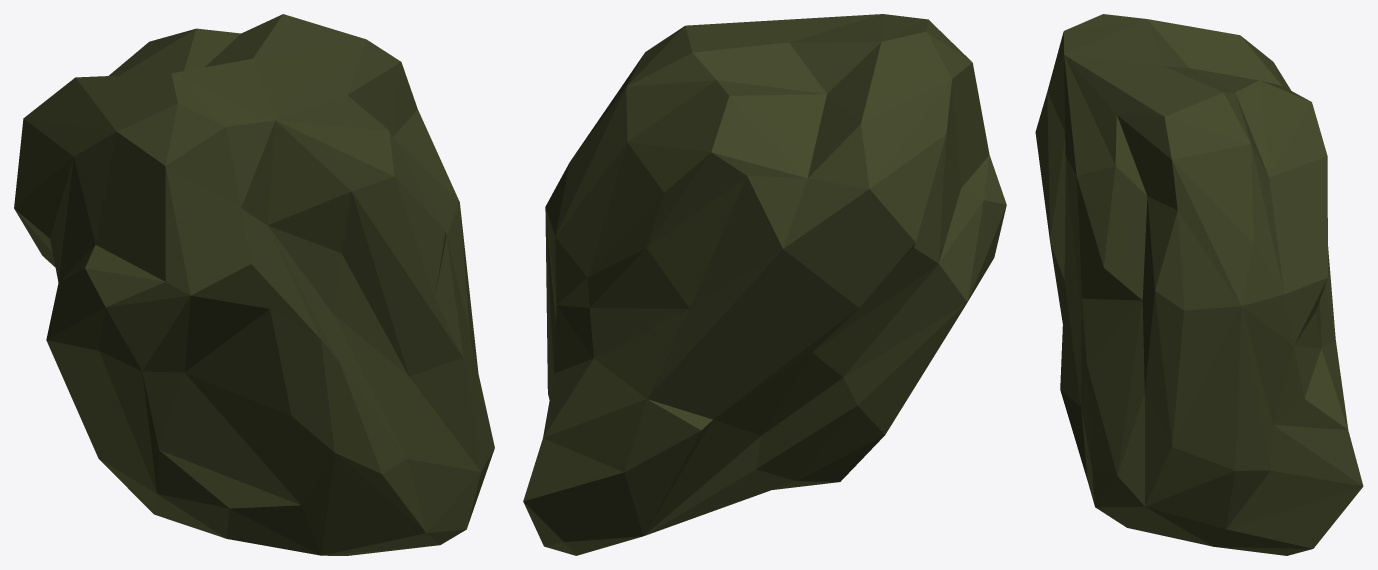
The model's file is SM_small_rock_35.fbx.
3 views of the same model, side by side, from view 1: azimuth 30°, elevation 25°; view 2: azimuth 150°, elevation 25°; view 3: azimuth 270°, elevation 25° (orthographic). The views are drawn at different scales.
Visible parts, largest first — view 1: small_rock_35; view 2: small_rock_35; view 3: small_rock_35.
Part boxes in pixels (x1,y1,x2,y2): small_rock_35: (14, 14, 494, 555); small_rock_35: (523, 14, 1006, 555); small_rock_35: (1035, 14, 1363, 555).
Bounding box in the file's own units: 12.69 × 15.81 × 10.64.
